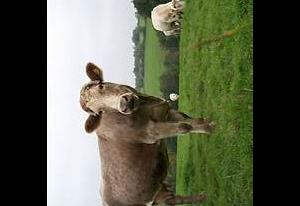cow: (78, 61, 216, 206), (150, 0, 185, 32)
